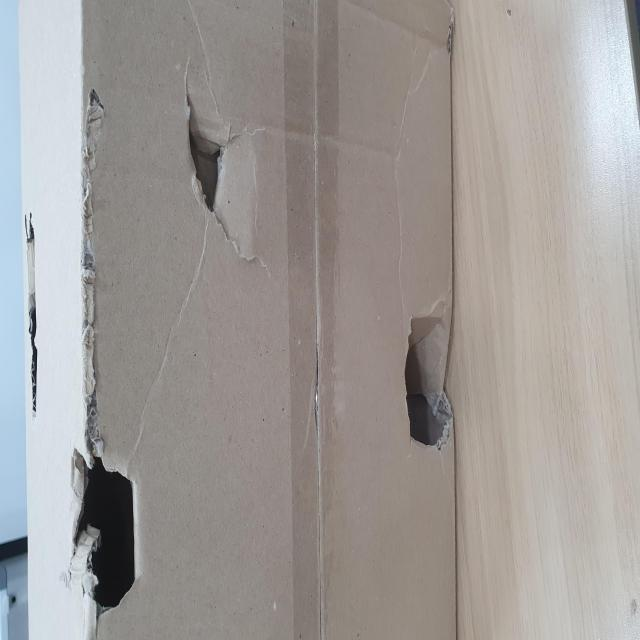damaged: (11, 109, 109, 253), (224, 323, 306, 454), (125, 38, 248, 72)
